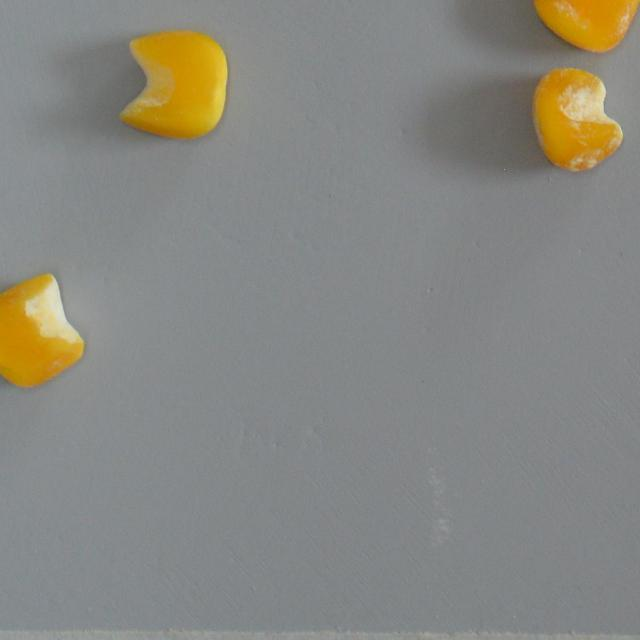dañado: (115, 26, 231, 143), (526, 61, 628, 176), (0, 269, 88, 395), (528, 0, 640, 58)
